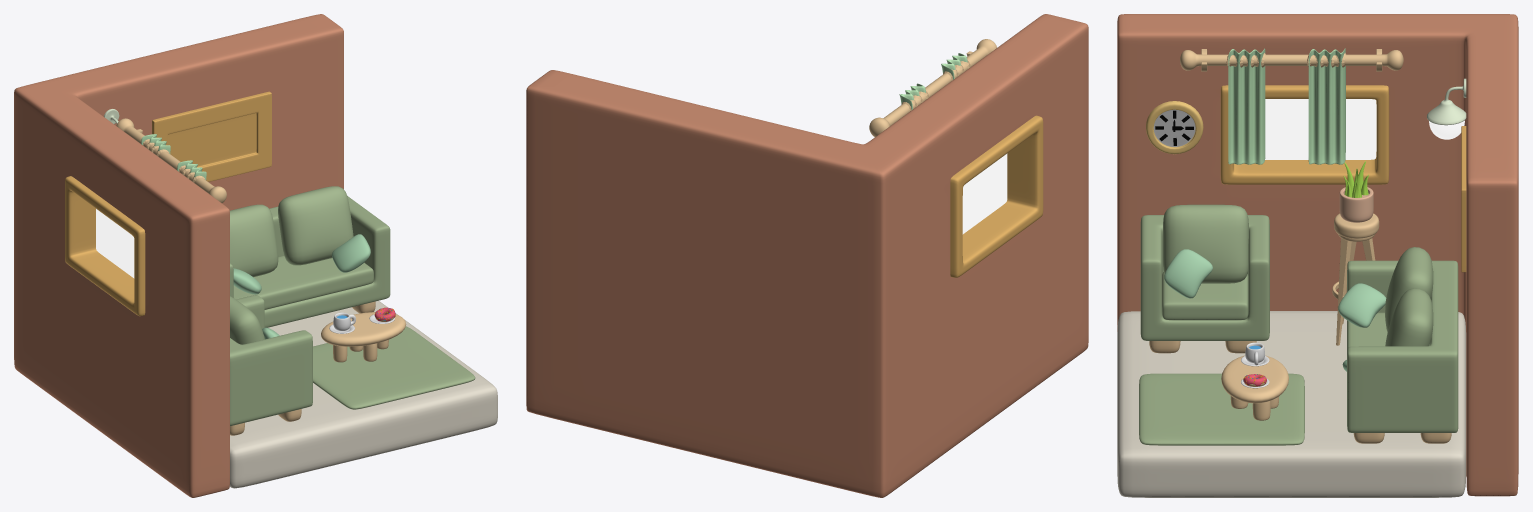
The picture shows the model from 3 angles, left to right: view 1: azimuth 30°, elevation 25°; view 2: azimuth 150°, elevation 25°; view 3: azimuth 270°, elevation 25°; orthographic projection. The views are drawn at different scales.
Parts seen in each view (by area): view 1: Wall, Floor, Double Sofa, Carpet, Frame, Single Sofa, Window, Cube.004, Cube.003, Coffe Table, Plane, Cube.007 (+3 smaller); view 2: Wall, Window, Plane, Tag; view 3: Wall, Floor, Double Sofa, Single Sofa, Carpet, Window, Cube.007, Plane, Cartain 1, Cartain, Cube.004, Tag (+13 smaller).
Part boxes in pixels (x1=…): Wall: x1=14, y1=14, x2=343, y2=497; Floor: x1=229, y1=300, x2=497, y2=488; Double Sofa: x1=230, y1=196, x2=390, y2=327; Carpet: x1=313, y1=326, x2=475, y2=409; Frame: x1=152, y1=91, x2=271, y2=181; Single Sofa: x1=230, y1=295, x2=312, y2=425; Window: x1=65, y1=176, x2=145, y2=316; Cube.004: x1=278, y1=186, x2=353, y2=265; Cube.003: x1=230, y1=204, x2=278, y2=277; Coffe Table: x1=321, y1=312, x2=406, y2=346; Plane: x1=96, y1=209, x2=134, y2=278; Cube.007: x1=230, y1=296, x2=264, y2=344; Wall: x1=526, y1=14, x2=1088, y2=497; Window: x1=950, y1=115, x2=1043, y2=277; Plane: x1=962, y1=153, x2=1007, y2=234; Tag: x1=869, y1=39, x2=996, y2=136; Wall: x1=1117, y1=14, x2=1518, y2=496; Floor: x1=1117, y1=311, x2=1466, y2=497; Double Sofa: x1=1347, y1=260, x2=1458, y2=432; Single Sofa: x1=1140, y1=215, x2=1269, y2=340; Carpet: x1=1139, y1=373, x2=1304, y2=445; Window: x1=1220, y1=85, x2=1389, y2=184; Cube.007: x1=1163, y1=204, x2=1248, y2=283; Plane: x1=1265, y1=99, x2=1376, y2=159; Cartain 1: x1=1308, y1=48, x2=1345, y2=164; Cartain: x1=1228, y1=48, x2=1265, y2=164; Cube.004: x1=1385, y1=288, x2=1433, y2=346; Tag: x1=1180, y1=50, x2=1403, y2=70.
Size of the model in its own units: 8.86 by 7.64 by 8.68.
